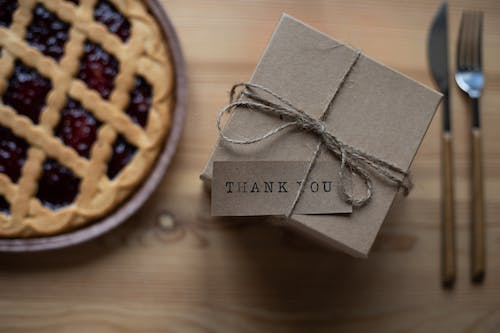knife: (423, 0, 458, 293)
